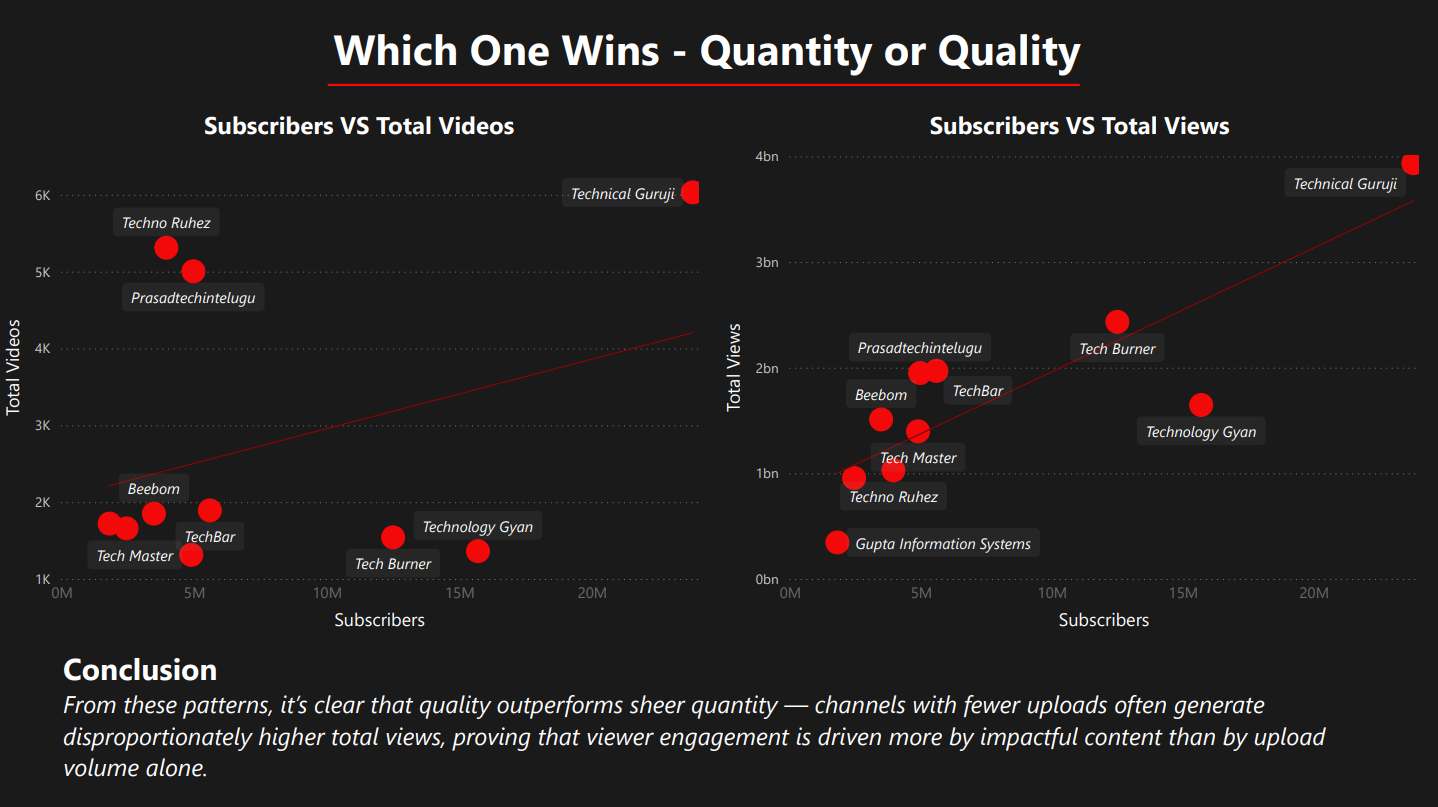

The page's visual inventory and layout, read from the dashboard file:
{"tool":"powerbi","page":{"name":"2","canvas":[1280,720],"ordinal":1},"visuals":[{"type":"scatterChart","title":"Subscribers VS Total Videos","fields":{"Category":["yt_data_stats.channelName"],"X":["Sum(yt_data_stats.subscribers)"],"Y":["Sum(yt_data_stats.totalVideos)"]},"box":[0,96.1,640.4,468.7],"z":0},{"type":"scatterChart","title":"Subscribers VS Total Views","fields":{"Category":["yt_data_stats.channelName"],"X":["Sum(yt_data_stats.subscribers)"],"Y":["Sum(yt_data_stats.totalViews)"]},"box":[640.4,96.1,639.6,468.7],"z":1000},{"type":"textbox","box":[292.5,13.2,695.9,62.5],"z":2000},{"type":"shape","box":[292.5,59,667.7,32.6],"z":3000},{"type":"textbox","box":[52,570,1176,149.8],"z":4000}]}

Visuals, with their boxes in screenshot pixels (x1, y1, x2, y2), scaled from the page's 1280x720 canvas onto the 1438x807 screenshot:
"Subscribers VS Total Videos" scatterChart: box=[0, 108, 719, 633]
"Subscribers VS Total Views" scatterChart: box=[719, 108, 1437, 633]
textbox: box=[329, 15, 1110, 85]
shape: box=[329, 66, 1079, 103]
textbox: box=[58, 639, 1380, 806]
